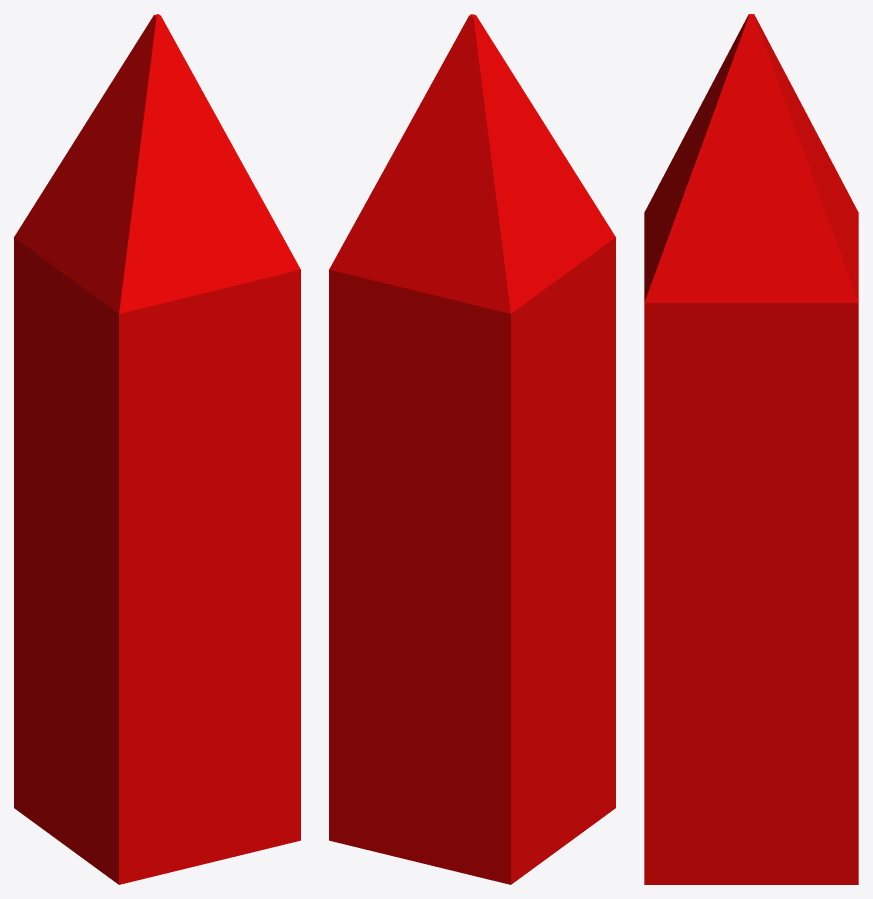
File: body1_visual.obj
3 renders of one model, left to right at view 1: azimuth 30°, elevation 25°; view 2: azimuth 150°, elevation 25°; view 3: azimuth 270°, elevation 25°, orthographic.
Parts seen in each view (by area): view 1: Body1; view 2: Body1; view 3: Body1.
Boxes of the visible parts, x1,y1,x2,y2 form: Body1: (14,14,300,884); Body1: (329,14,615,884); Body1: (644,14,858,884).
Bounding box in the file's own units: 4 × 17 × 4.
